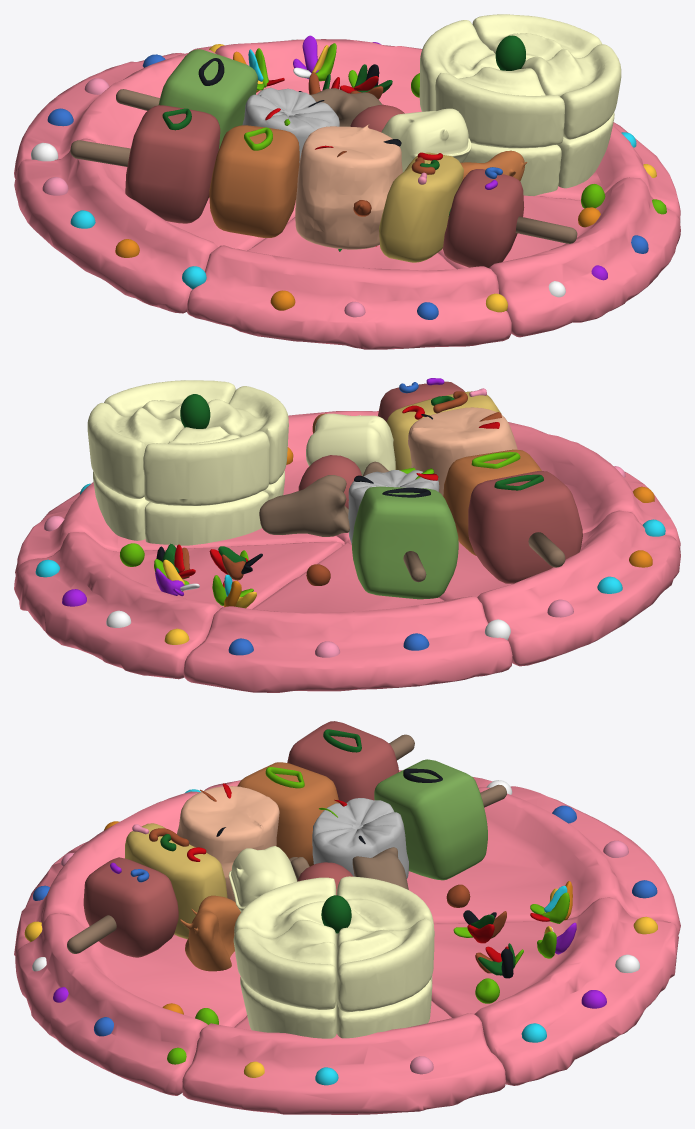
The model's file is GrilledSkewers3dModel.fbx.
3 renders of one model, top to bottom at view 1: azimuth 30°, elevation 25°; view 2: azimuth 150°, elevation 25°; view 3: azimuth 270°, elevation 25°, orthographic.
Parts seen in each view (by area): view 1: M_GrilledSkewers3dModel, S_GrilledSkewers3dModel, D_GrilledSkewers3dModel_5; view 2: M_GrilledSkewers3dModel, S_GrilledSkewers3dModel, D_GrilledSkewers3dModel_5, D_GrilledSkewers3dModel_7, D_GrilledSkewers3dModel_6, D_GrilledSkewers3dModel_27; view 3: S_GrilledSkewers3dModel, M_GrilledSkewers3dModel, D_GrilledSkewers3dModel_5.
Boxes of the visible parts, x1,y1,x2,y2 form: M_GrilledSkewers3dModel: (14,14,621,349); S_GrilledSkewers3dModel: (14,39,680,337); D_GrilledSkewers3dModel_5: (495,35,525,70); M_GrilledSkewers3dModel: (87,380,680,666); S_GrilledSkewers3dModel: (14,411,512,692); D_GrilledSkewers3dModel_5: (180,394,210,428); D_GrilledSkewers3dModel_7: (471,452,520,468); D_GrilledSkewers3dModel_6: (494,474,543,490); D_GrilledSkewers3dModel_27: (120,543,144,566); S_GrilledSkewers3dModel: (15,786,680,1114); M_GrilledSkewers3dModel: (14,721,506,1038); D_GrilledSkewers3dModel_5: (321,895,351,933).
Bounding box in the file's own units: 819 × 220 × 820.
